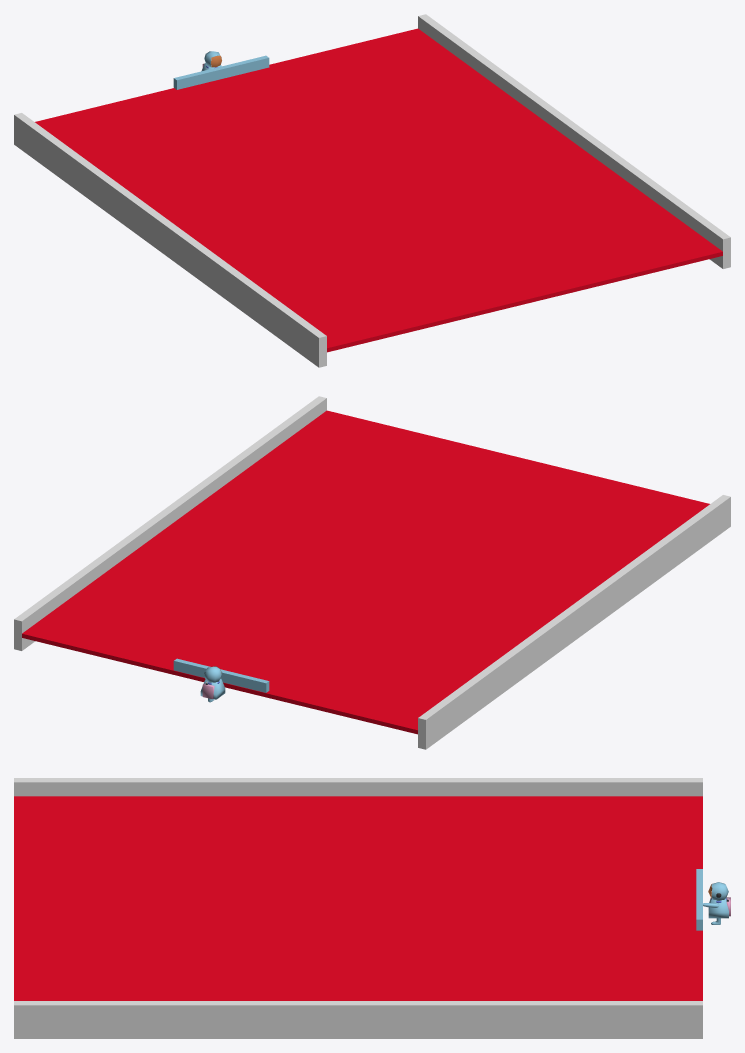
File: boardplusplayer.gltf
3 renders of one model, top to bottom at view 1: azimuth 30°, elevation 25°; view 2: azimuth 150°, elevation 25°; view 3: azimuth 270°, elevation 25°, orthographic. The views are drawn at different scales.
Parts seen in each view (by area): view 1: Cube.009, Cube.011, Cube.012, Cube.010; view 2: Cube.009, Cube.011, Cube.012, Cube.010; view 3: Cube.009, Cube.012, Cube.011, Cube.010.
Part boxes in pixels (box(x1,y1,x2,y2)): Cube.009: box(35, 28, 722, 352); Cube.011: box(14, 113, 326, 367); Cube.012: box(418, 14, 730, 268); Cube.010: box(173, 55, 269, 89); Cube.009: box(22, 410, 709, 734); Cube.011: box(418, 495, 730, 749); Cube.012: box(14, 396, 326, 650); Cube.010: box(173, 658, 269, 692); Cube.009: box(14, 796, 702, 1000); Cube.012: box(14, 1001, 702, 1038); Cube.011: box(14, 778, 702, 796); Cube.010: box(696, 869, 702, 930).
Bounding box in the file's own units: 31.2 × 2.74 × 41.62.
